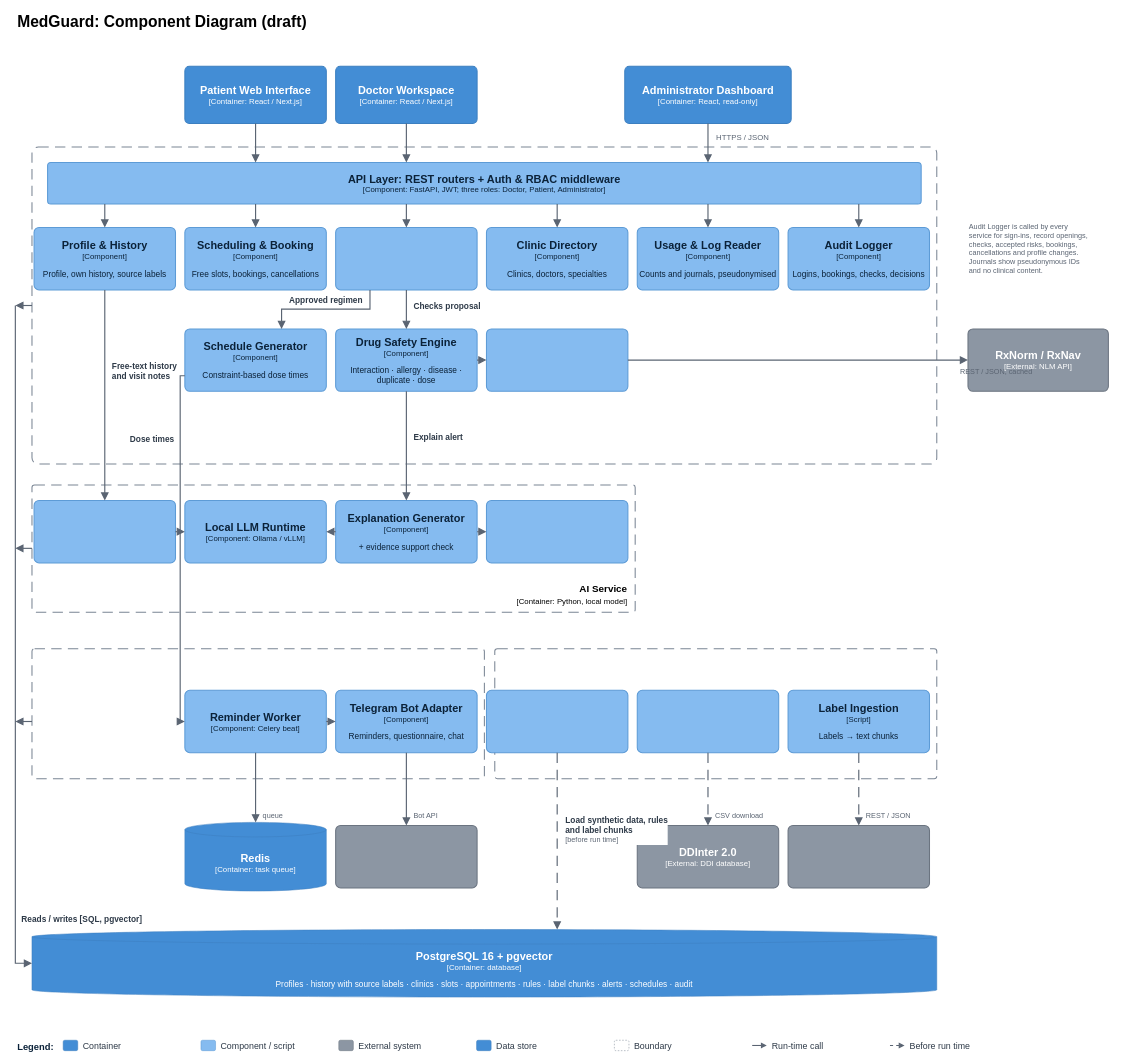
The diagram is 1133 pixels wide and 1062 high, and some of its shapes have lost their labels. Each missing label, with the box of its shape:
API Application [Container: Python, FastAPI]: (31, 146, 937, 464)
Background Workers [Container: Python, Celery]: (31, 648, 485, 779)
Evidence Retriever [Component: RAG] Label passages, pgvector: (486, 500, 628, 563)
Medication Normalizer [Component] Brand / generic → ingredient: (486, 328, 628, 392)
NLP Anamnesis Parser [Component] Free text → structured entities: (33, 500, 176, 563)
Offline Data Preparation [Team scripts, run before deployment]: (494, 648, 937, 779)
openFDA / DailyMed [External: drug labels]: (787, 825, 930, 888)
Rule-base Importer [Script] DDInter → versioned rules: (636, 690, 779, 753)
Synthetic Data Generator [Script] Patients, clinics, doctors (seed): (486, 690, 628, 753)
Telegram Bot API [External system]: (335, 825, 477, 888)
Visit & Prescription [Component] Visit notes, proposed medicines: (335, 227, 477, 290)
